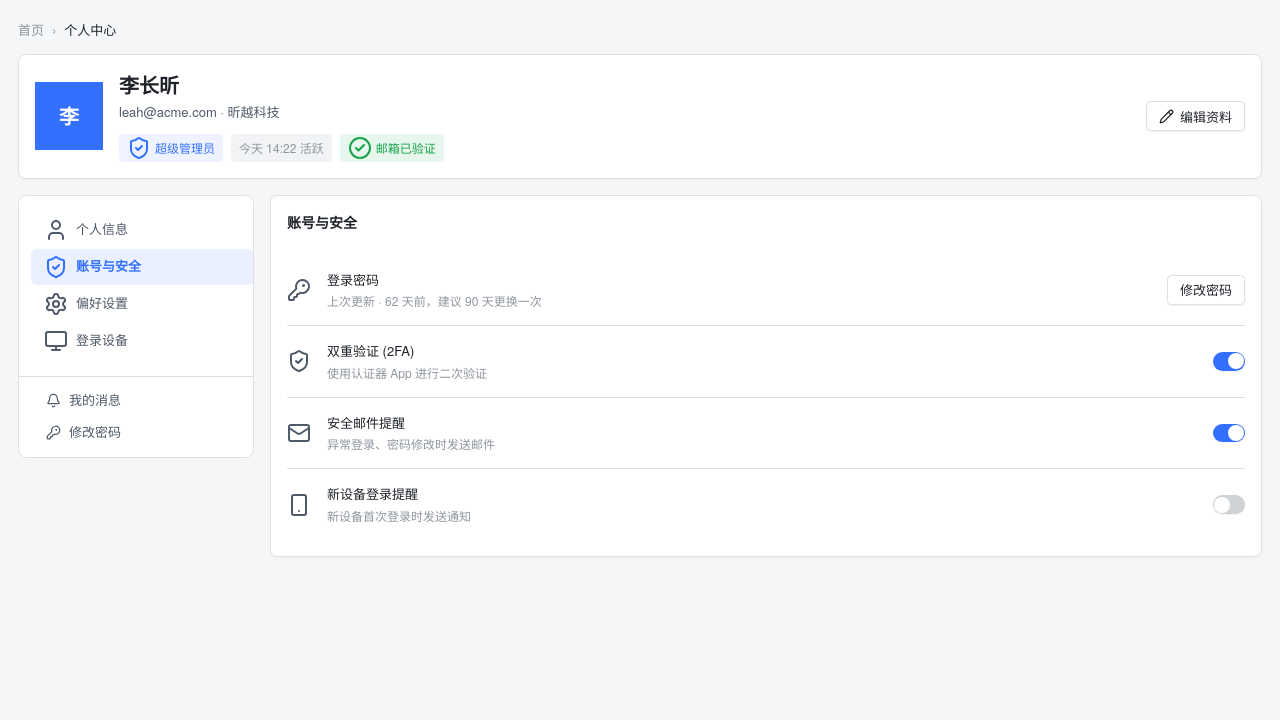
Test: 账号安全开关可保存并可打开修改密码表单
Click the switch named "新设备登录提醒". click: (1229, 504)
box: [1213, 495, 1245, 514]
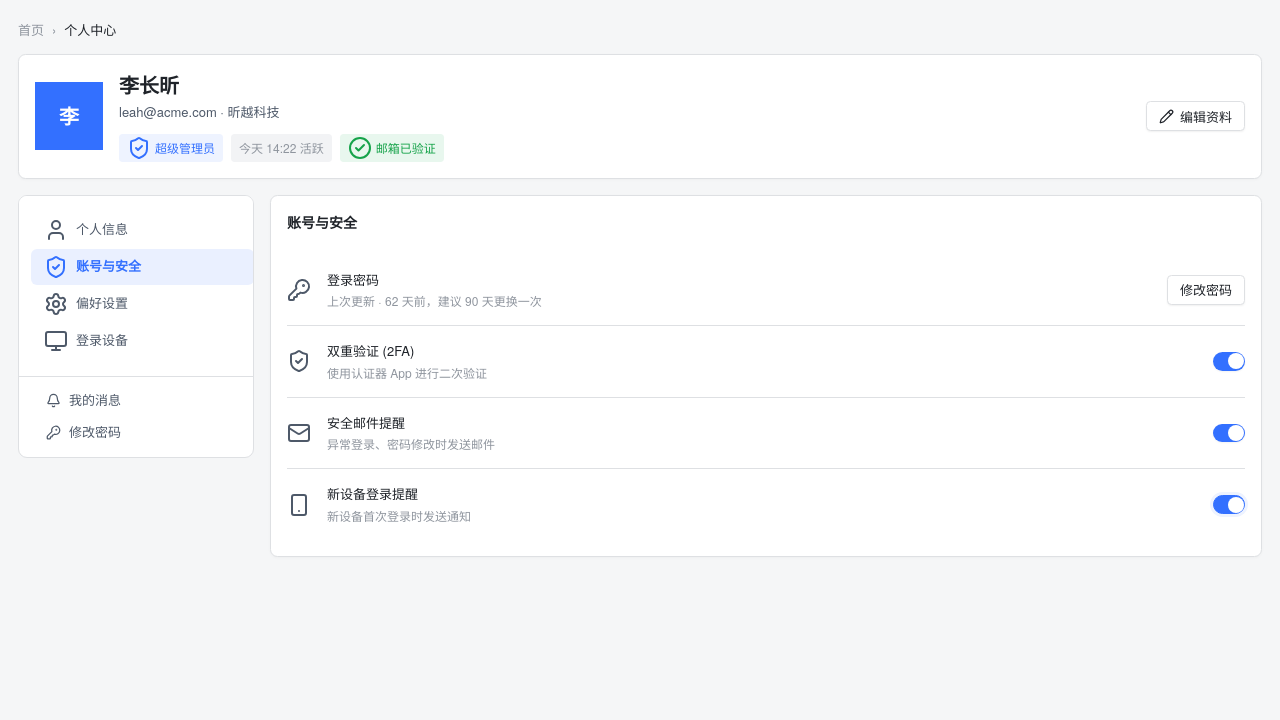
Expected: the switch named "新设备登录提醒" is checked, [1213, 495, 1245, 514]
Click the button "修改密码" in the row of "上次更新 · 62 天前，建议 90 天更换一次". click: (1206, 290)
box: [1167, 275, 1245, 305]
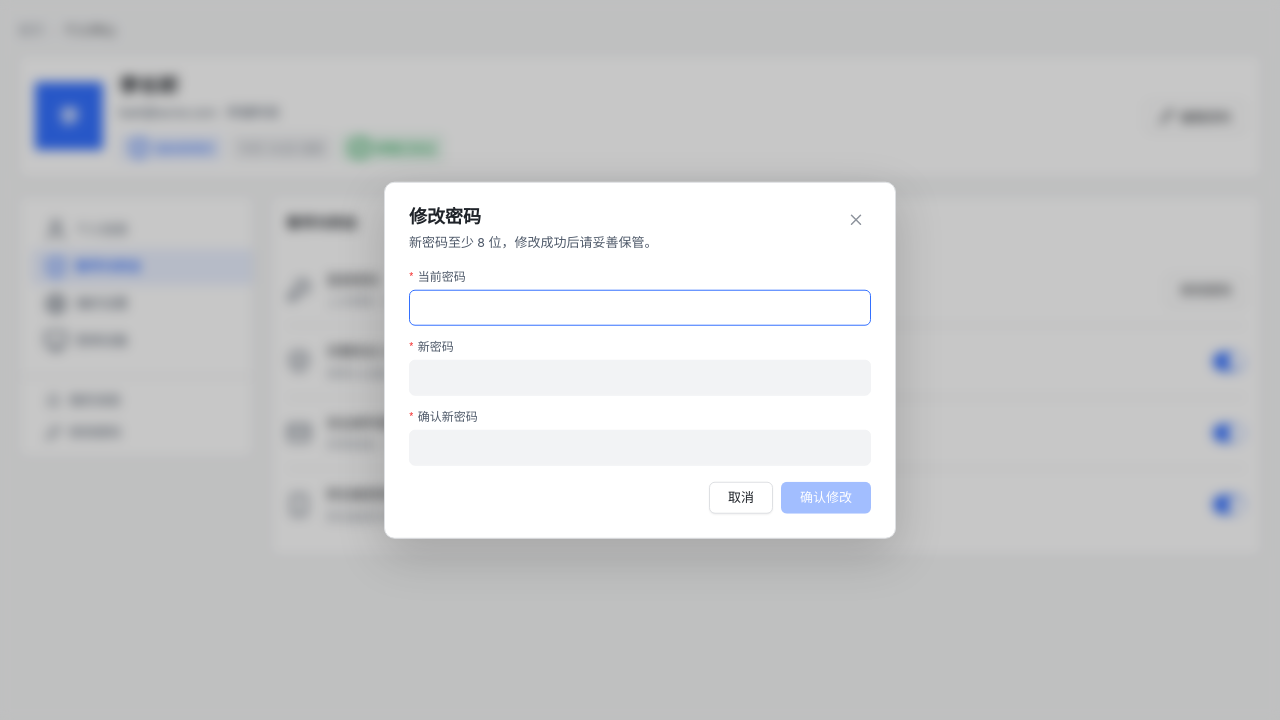
Expected: the field labelled "当前密码" is shown, [409, 289, 871, 325]
